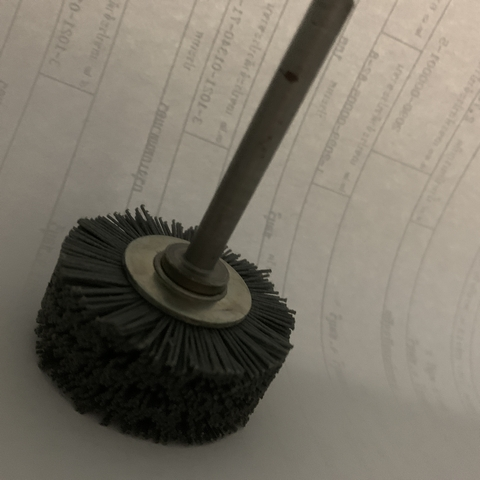Wheel Brush: (34, 5, 338, 450), (15, 10, 306, 453), (23, 19, 304, 451), (50, 15, 316, 460), (33, 100, 293, 449)
